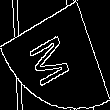M_NE: (30, 23, 80, 87)
